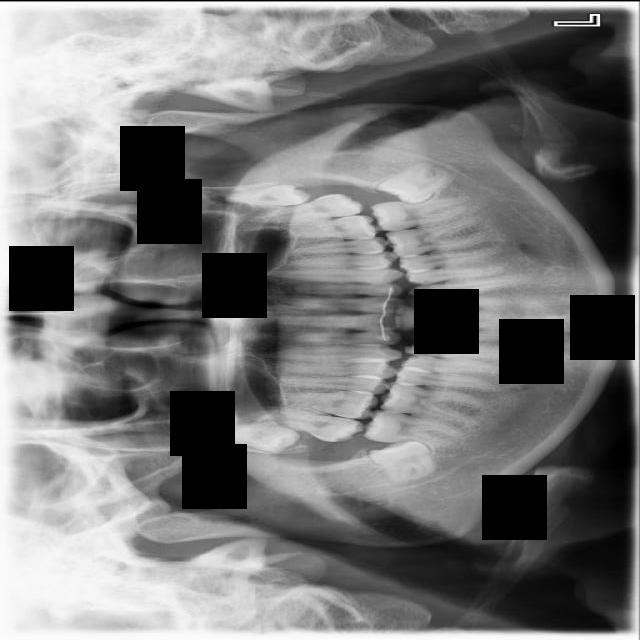3M ESPE Implant: (181, 413, 302, 454)
52: (378, 378, 426, 416), (368, 197, 415, 235), (383, 224, 428, 261)
73: (550, 40, 558, 42)
BioHorizons Implant: (233, 190, 366, 227)
BioLife Implant: (226, 183, 311, 205)
Biomet 3i Implant: (375, 150, 456, 218)
Blue Sky Bio Implant: (368, 189, 472, 233)
Caries: (241, 401, 366, 447)
Implant: (362, 406, 471, 452)
Keystone Dental Implant: (367, 433, 436, 490)
